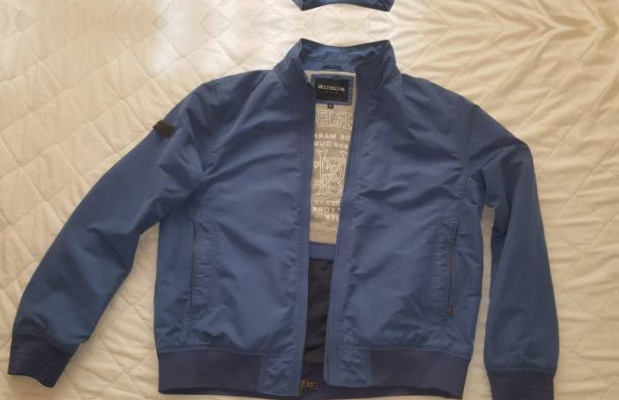Blazer: (3, 41, 582, 398), (8, 0, 588, 7)
